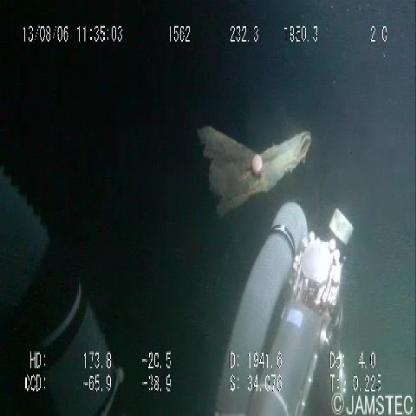Rov: (1, 125, 145, 416), (212, 197, 361, 416)
Rác: (191, 117, 319, 230)
